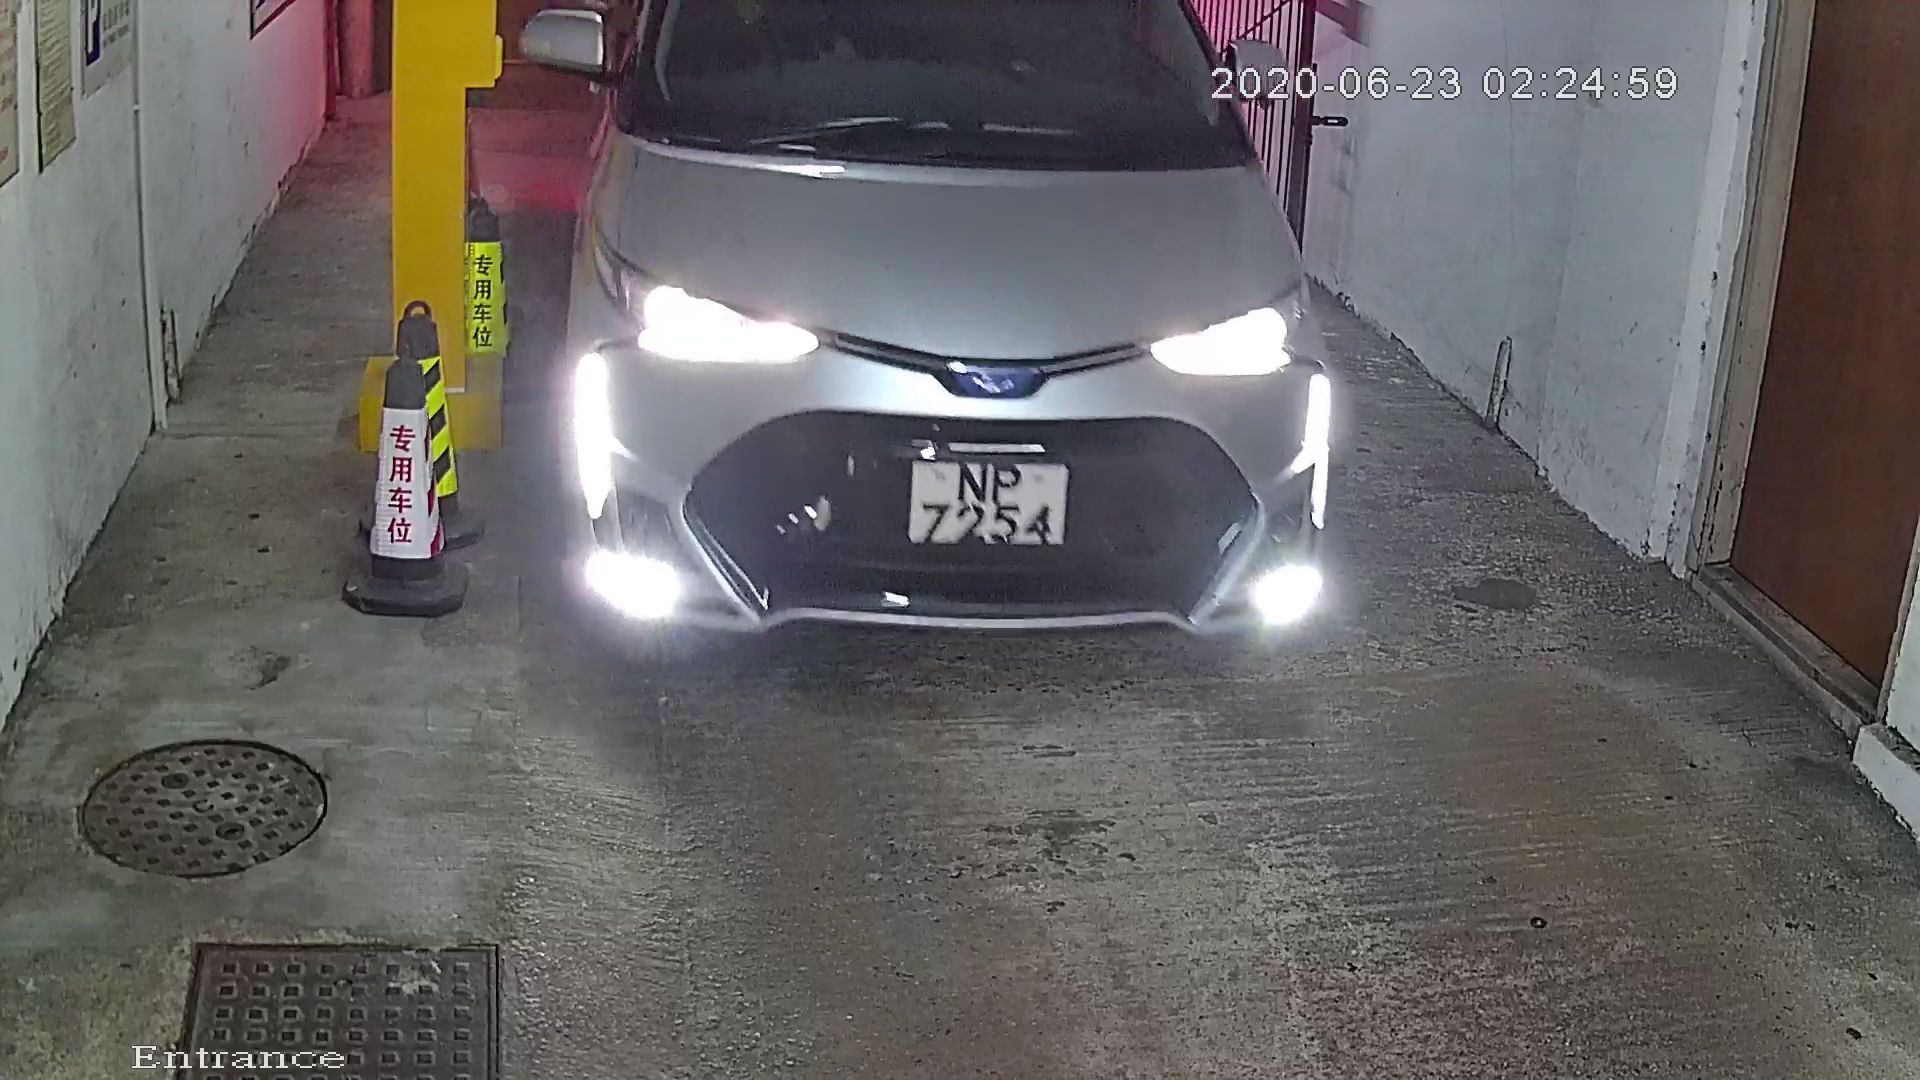privatecar: (547, 3, 1358, 732)
